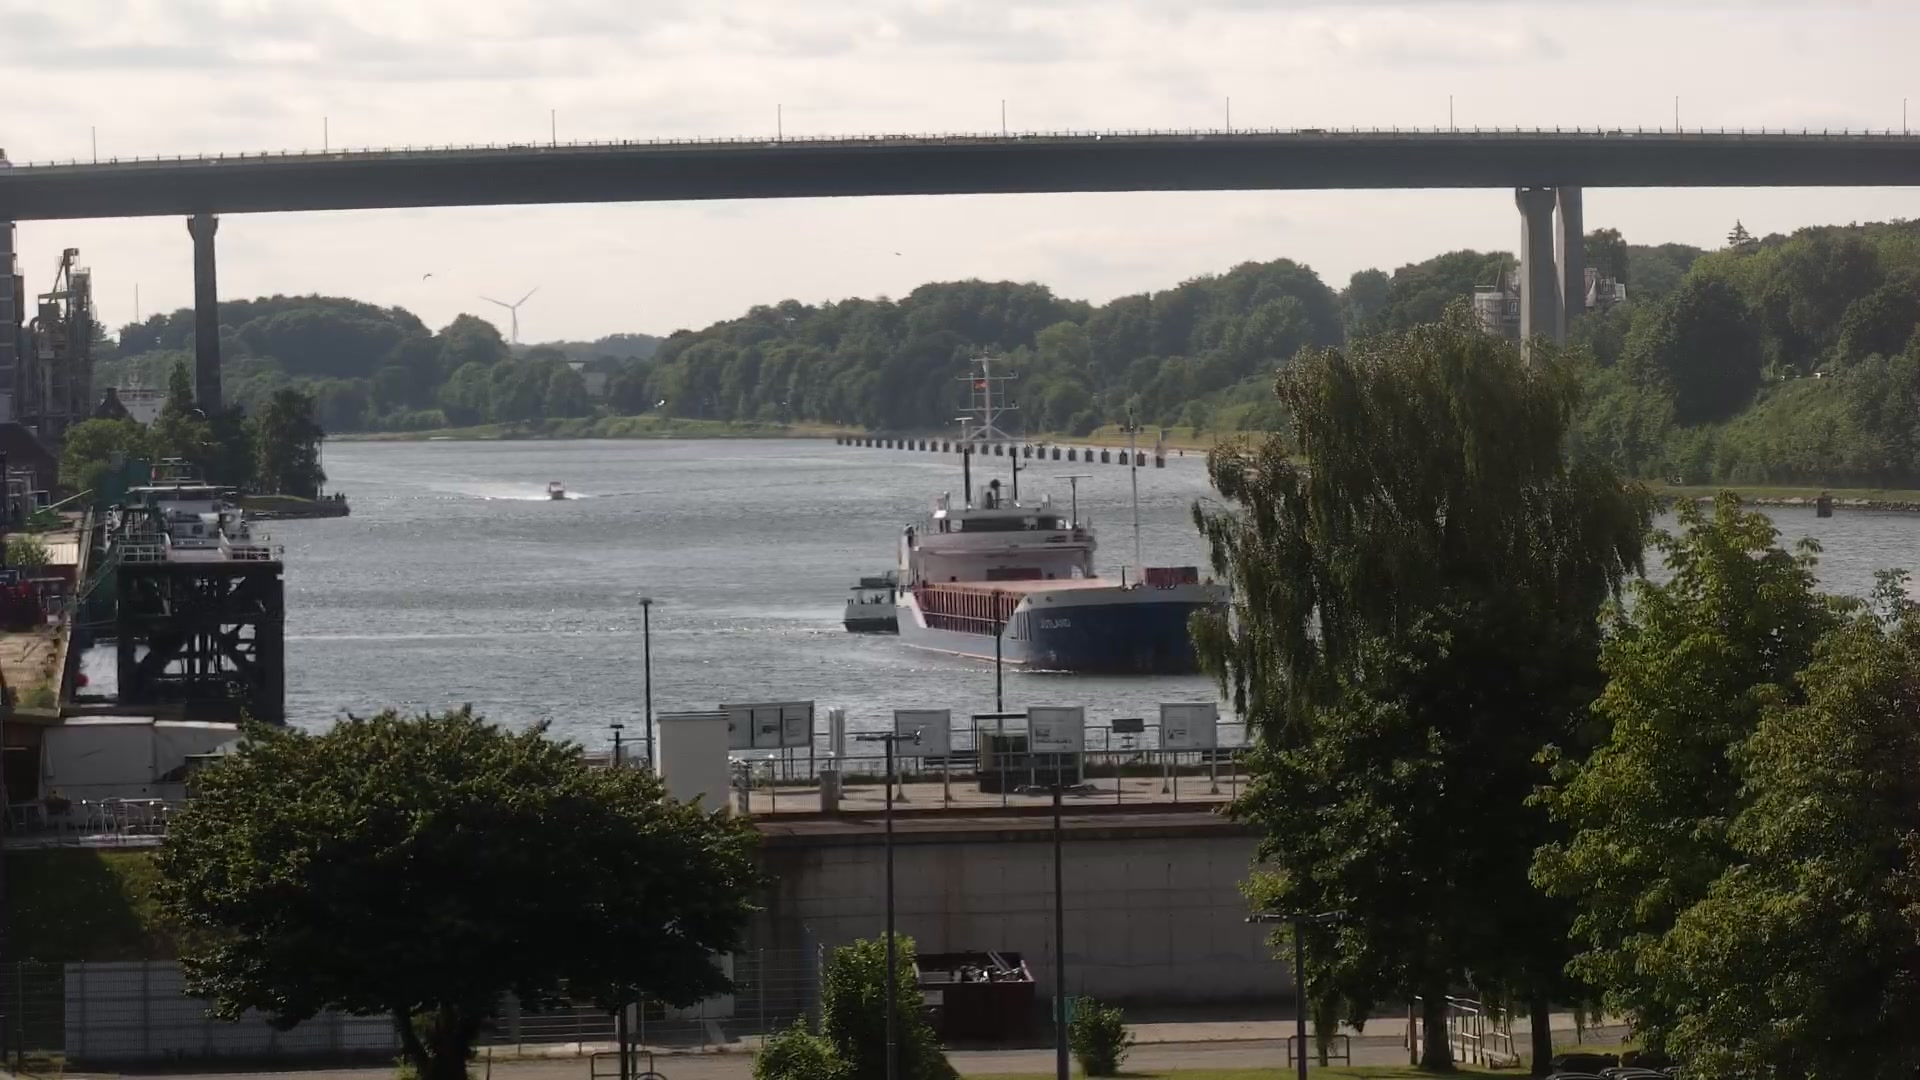land: (1601, 1065, 1673, 1080)
sea: (891, 342, 1234, 671), (103, 456, 281, 615), (841, 568, 898, 632), (546, 480, 564, 498)
